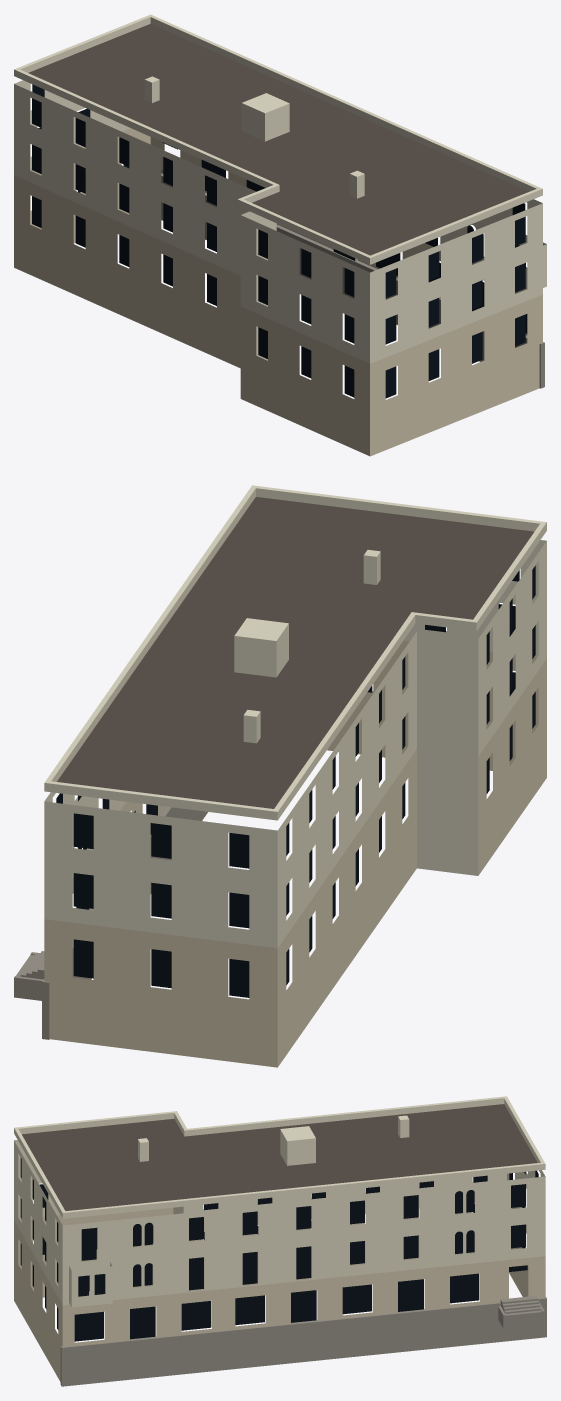
3 renders of one model, top to bottom at view 1: azimuth 30°, elevation 25°; view 2: azimuth 150°, elevation 25°; view 3: azimuth 270°, elevation 25°, orthographic. The views are drawn at different scales.
Parts seen in each view (by area): view 1: bm20_wall, bm20_wall2, bm20_roof, bm20_glass, bm20_stone; view 2: bm20_wall, bm20_roof, bm20_wall2, bm20_glass, bm20_stone; view 3: bm20_wall, bm20_roof, bm20_stone, bm20_wall2, bm20_glass.
Part boxes in pixels (left/top/right/bottom): bm20_wall: left=14, top=14, right=546, bottom=363; bm20_wall2: left=14, top=128, right=542, bottom=456; bm20_roof: left=28, top=23, right=528, bottom=255; bm20_glass: left=32, top=84, right=527, bottom=398; bm20_stone: left=161, top=170, right=544, bottom=388; bm20_wall: left=44, top=485, right=546, bottom=948; bm20_roof: left=57, top=497, right=533, bottom=808; bm20_wall2: left=44, top=640, right=546, bottom=1067; bm20_glass: left=56, top=565, right=535, bottom=997; bm20_stone: left=14, top=806, right=207, bottom=1039; bm20_wall: left=14, top=1096, right=545, bottom=1307; bm20_roof: left=22, top=1104, right=537, bottom=1210; bm20_stone: left=60, top=1295, right=546, bottom=1386; bm20_wall2: left=14, top=1192, right=545, bottom=1381; bm20_glass: left=20, top=1158, right=538, bottom=1341.
Bounding box in the file's own units: 23.08 × 17.1 × 43.06.
